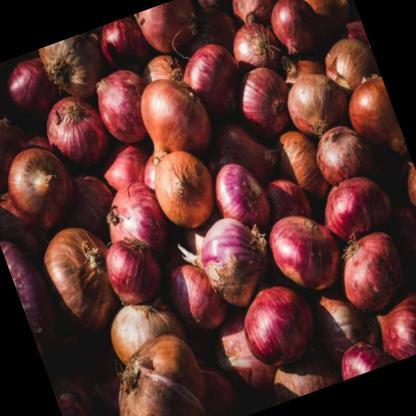onion: (0, 129, 96, 245), (187, 202, 284, 316), (126, 60, 223, 169), (257, 198, 351, 304), (93, 224, 176, 318), (276, 57, 362, 144)
